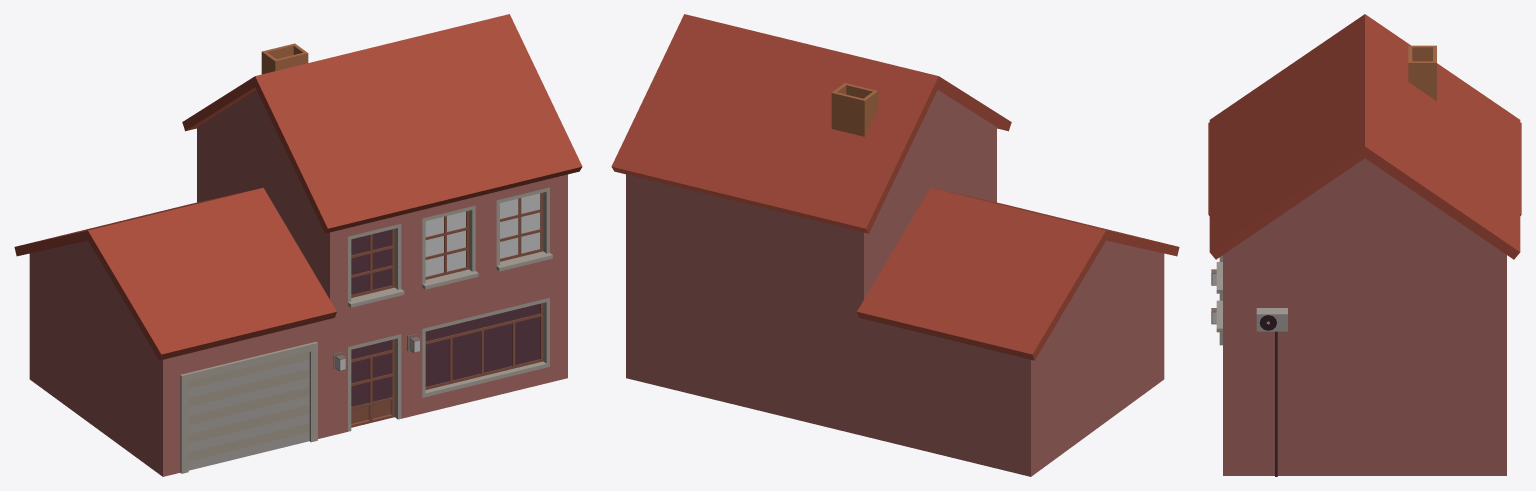
File: Building_31.FBX
3 views of the same model, side by side, from view 1: azimuth 30°, elevation 25°; view 2: azimuth 150°, elevation 25°; view 3: azimuth 270°, elevation 25° (orthographic). The views are drawn at different scales.
Parts seen in each view (by area): view 1: Building_31, Building_31LP; view 2: Building_31; view 3: Building_31.
Part boxes in pixels (x1=…): Building_31: x1=14, y1=14, x2=582, y2=476; Building_31LP: x1=336, y1=193, x2=540, y2=370; Building_31: x1=611, y1=14, x2=1179, y2=476; Building_31: x1=1208, y1=14, x2=1521, y2=476.
Bounding box in the file's own units: 15.74 × 11.08 × 9.43.
